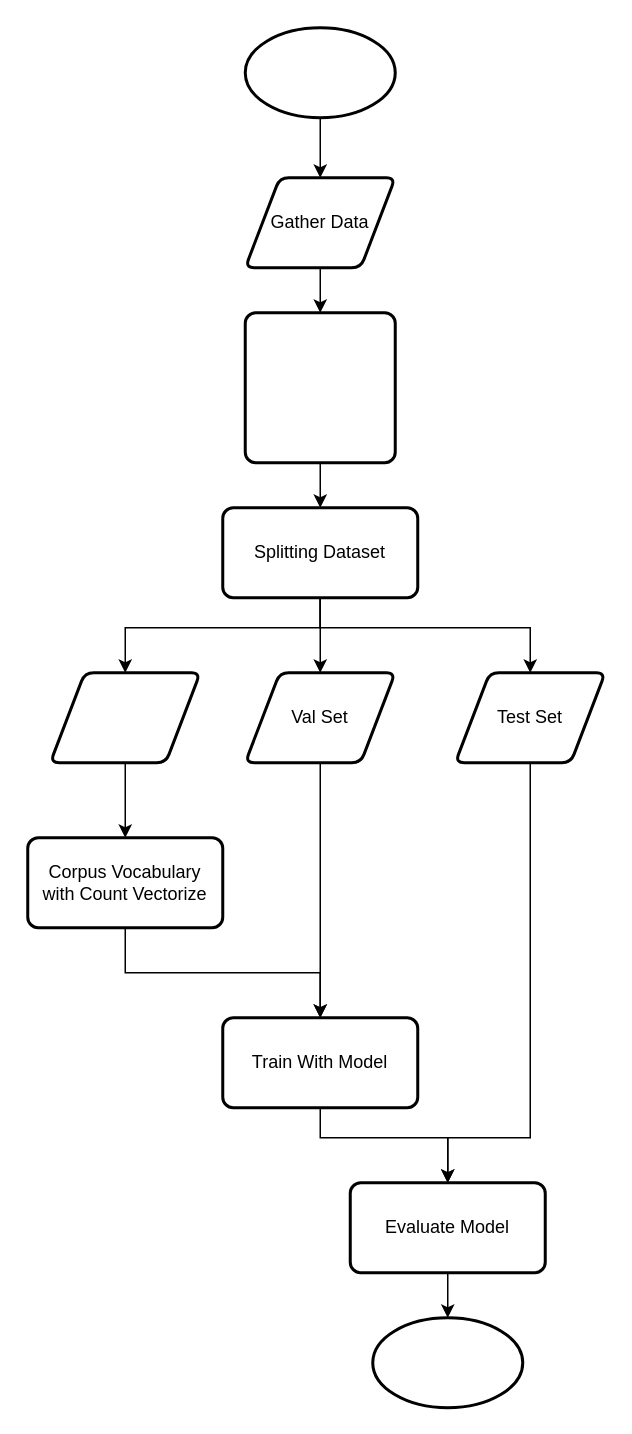
The diagram is 632 pixels wide and 1434 high, and some of its shapes have lost their labels. The centre of each missing label's shape, as x and y in pixels:
END: point (447, 1362)
Preprocessing Data: point (319, 387)
START: point (319, 72)
Train Set: point (124, 717)
